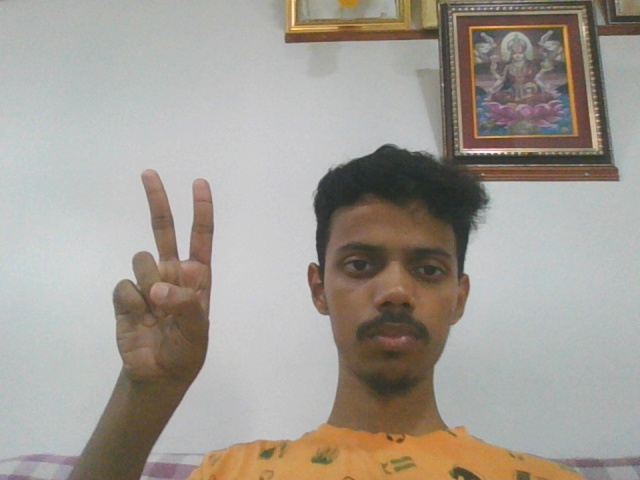Peace: (111, 167, 213, 380)
